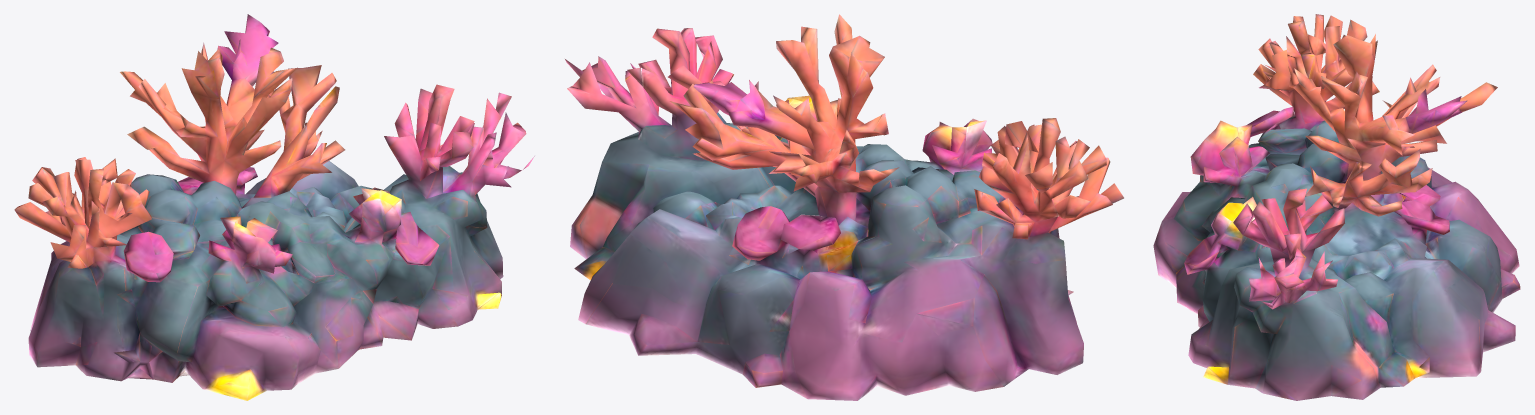
The model's file is obstacle_coral_reef.glb.
3 renders of one model, left to right at view 1: azimuth 30°, elevation 25°; view 2: azimuth 150°, elevation 25°; view 3: azimuth 270°, elevation 25°, orthographic. The views are drawn at different scales.
Visible parts, largest first — view 1: Mesh_0; view 2: Mesh_0; view 3: Mesh_0.
Part boxes in pixels (x1,y1,x2,y2): Mesh_0: (14, 14, 534, 400); Mesh_0: (565, 14, 1123, 400); Mesh_0: (1153, 14, 1520, 400).
Bounding box in the file's own units: 1.92 × 0.9706 × 1.27.
Materials: 1 (1 with a texture image).
